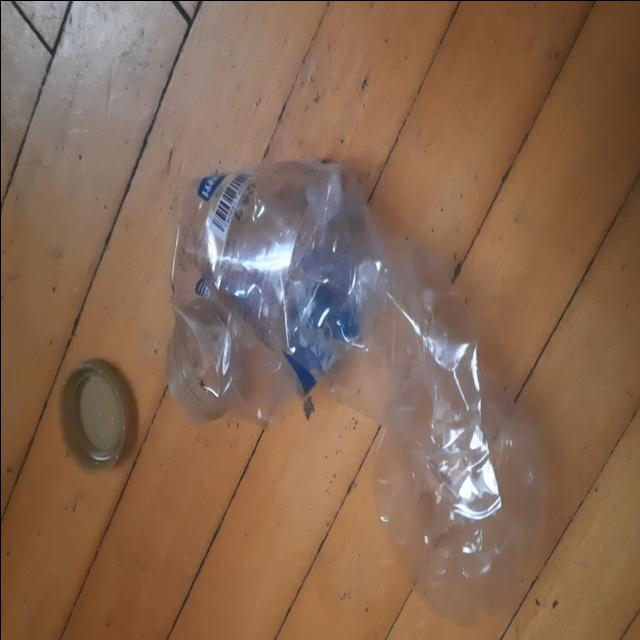Plastic: (169, 158, 545, 626)
